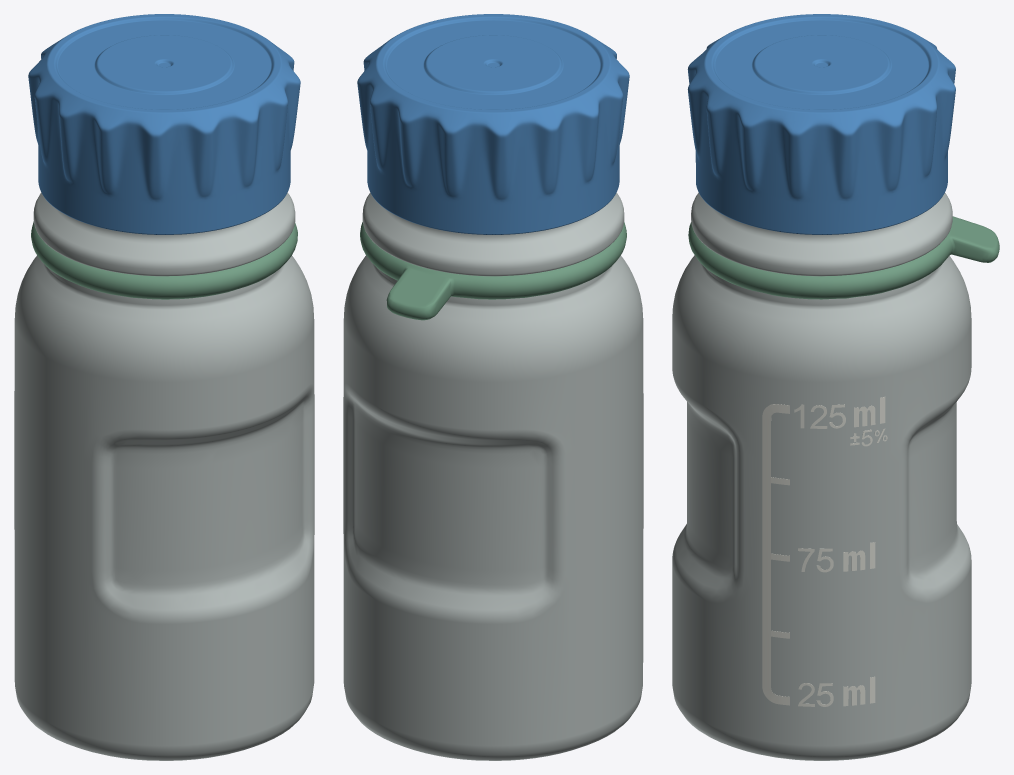
The model's file is bottle_laboratory_a01.glb.
The picture shows the model from 3 angles, left to right: view 1: azimuth 30°, elevation 25°; view 2: azimuth 150°, elevation 25°; view 3: azimuth 270°, elevation 25°; orthographic projection.
Bounding box in the file's own units: 0.0604 × 0.1428 × 0.0661.
